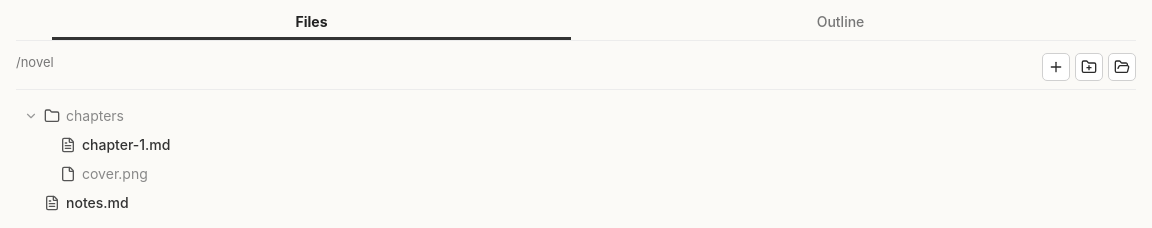
it: FileTree › collapses and expands manuscript folders
The image size is (1152, 228).
Click the button with aria-label "Collapse chapters".
click(95, 116)  # box [66,102,1022,131]
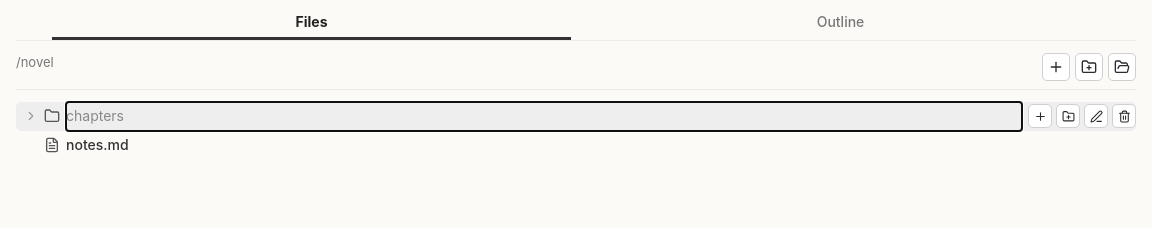
Now the button "chapter-1.md" is gone
Now the button with aria-label "Expand chapters" is shown
Click the button with aria-label "Expand chapters".
click(95, 116)  # box [66,102,1022,131]
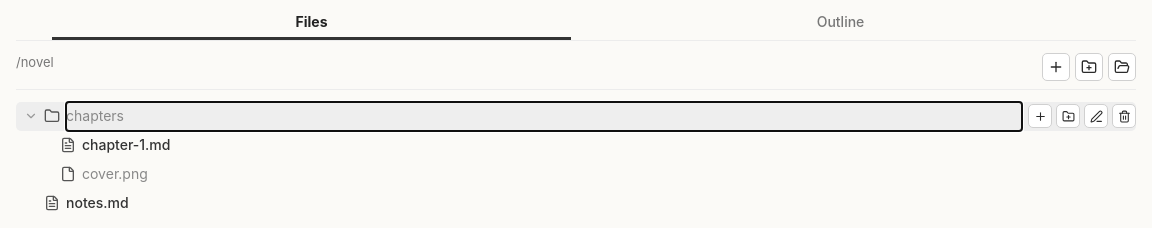
Now the button "chapter-1.md" is shown, box [82,131,1078,160]
